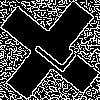L: (25, 25, 78, 75)
